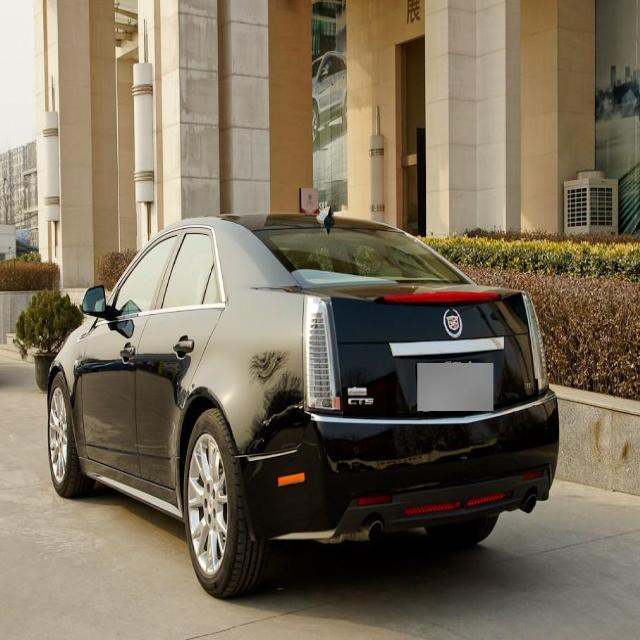back_glass: (253, 226, 477, 288)
back_left_side_light: (302, 289, 344, 416)
back_right_side_light: (520, 289, 554, 394)
door: (134, 224, 222, 485)
front_left_side_door: (80, 226, 181, 481)
front_left_side_mirror: (78, 283, 109, 319)
rear_bumper: (233, 389, 561, 545)
wheel: (182, 411, 264, 598), (48, 371, 94, 497)
